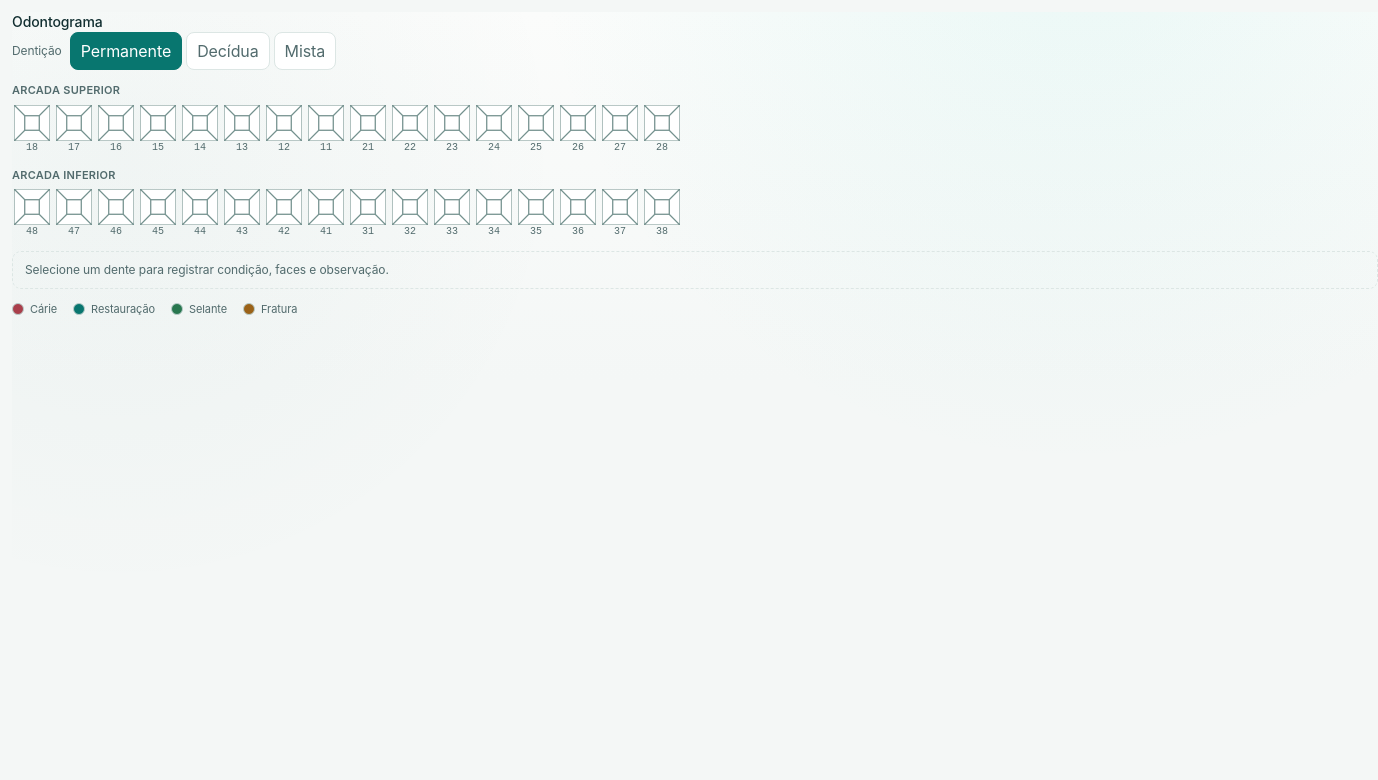
it: Odontograma — edicao › selecionar um dente abre o editor daquele dente
Expected: the text "Selecione um dente" is shown, [25, 262, 389, 277]
Click the button named "Dente 16, sem marcação".
click(116, 128)  # box [96, 102, 136, 154]
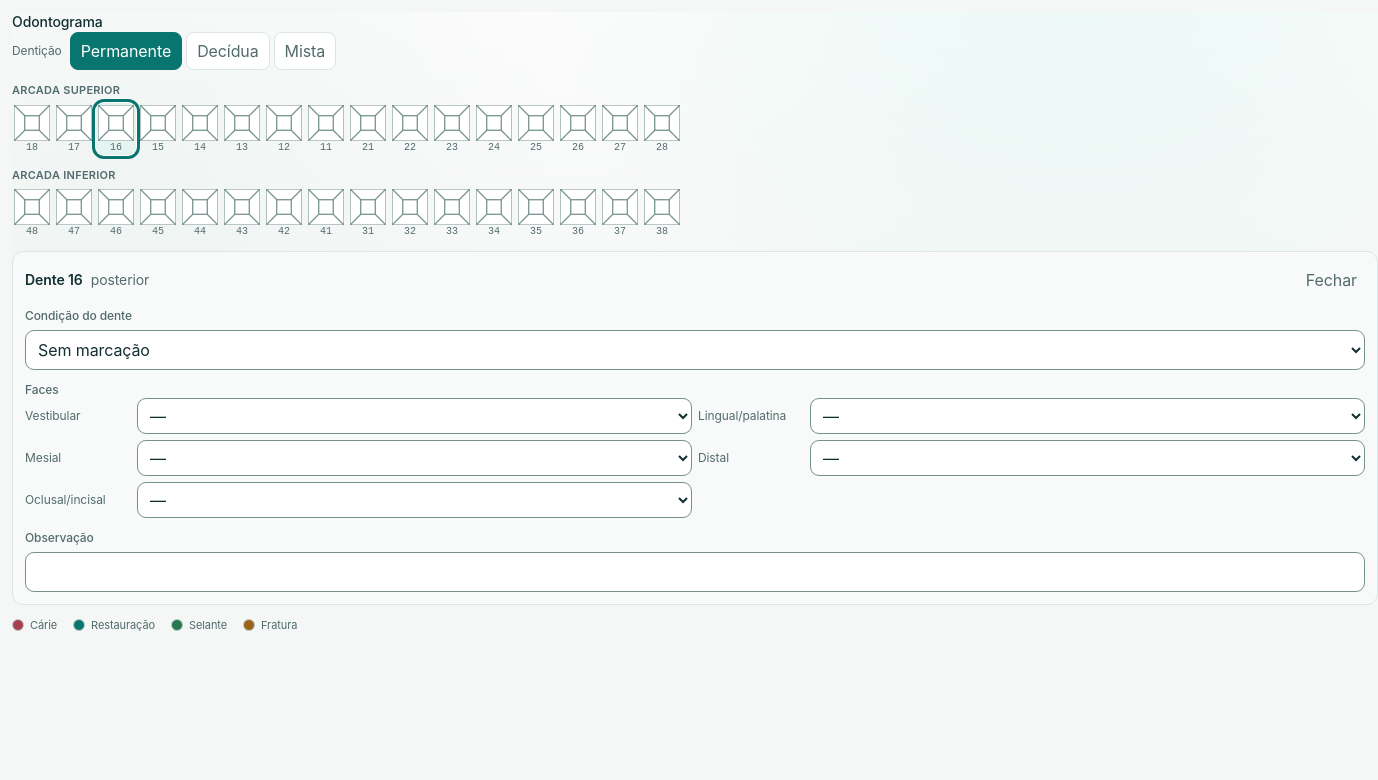
Expected: the heading "Dente 16posterior" is shown, [25, 270, 149, 290]
Expected: the dropdown labelled "Oclusal/incisal" is shown, [137, 482, 692, 518]
